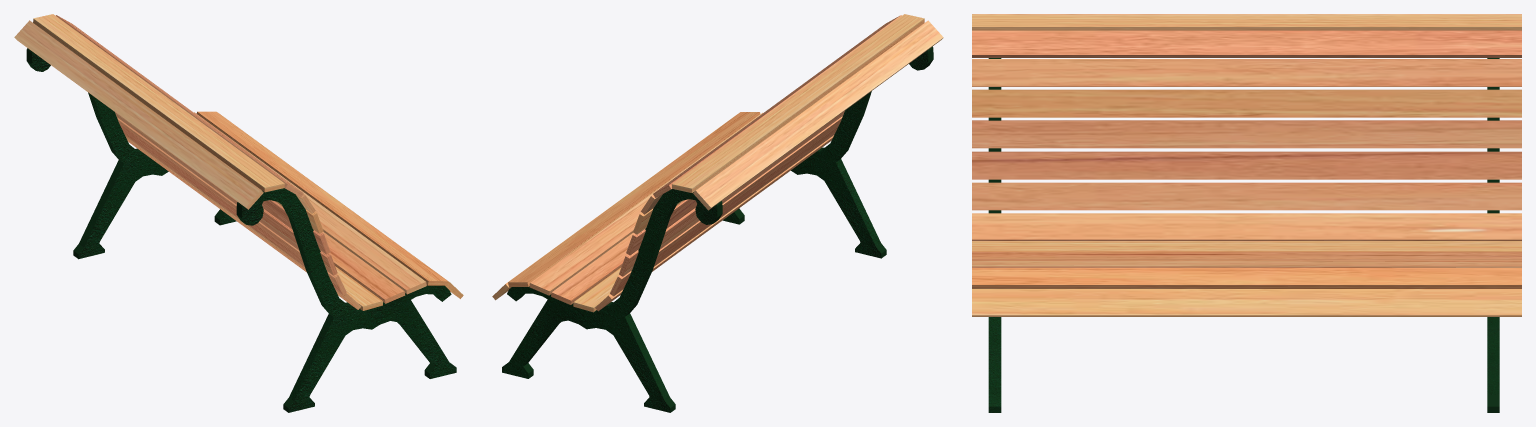
The model's file is banca.glb.
3 views of the same model, side by side, from view 1: azimuth 30°, elevation 25°; view 2: azimuth 150°, elevation 25°; view 3: azimuth 270°, elevation 25° (orthographic). The views are drawn at different scales.
Size of the model in its own units: 1.63 by 1.71 by 3.01.
2 materials, 2 textured.
